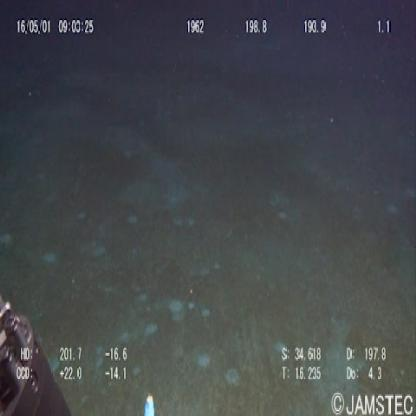Rov: (1, 280, 76, 416)
